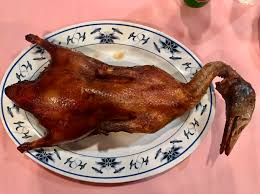peking_duck: (2, 25, 260, 171)
